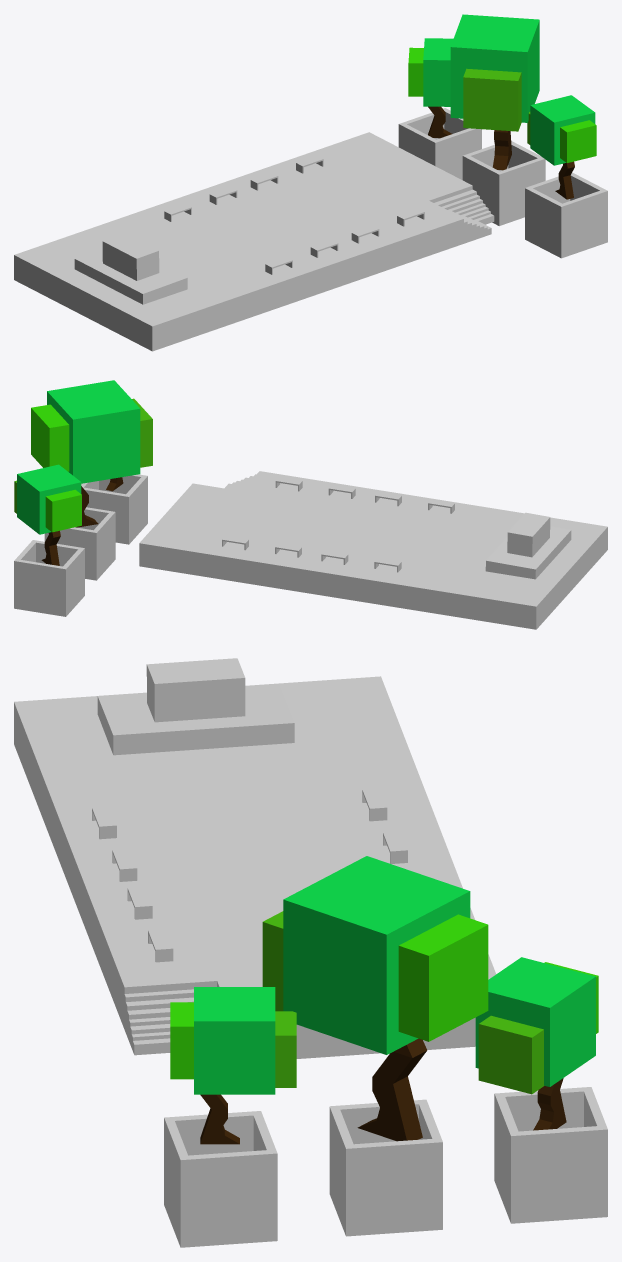
The model's file is praça.glb.
3 renders of one model, top to bottom at view 1: azimuth 30°, elevation 25°; view 2: azimuth 150°, elevation 25°; view 3: azimuth 270°, elevation 25°, orthographic. The views are drawn at different scales.
Visible parts, largest first — view 1: Cube, Cube.009, Cube.002, Cube.043, Cube.001, Cube.003, Cube.008, Cube.010, Cube.051; view 2: Cube, Cube.009, Cube.008, Cube.010, Cube.043, Cube.002, Cube.003, Cube.051; view 3: Cube, Cube.009, Cube.010, Cube.043, Cube.001, Cube.002, Cube.008, Cube.003, Cube.051.
Boxes of the visible parts, bbox=[...] form: Cube: bbox=[14, 132, 494, 351]; Cube.009: bbox=[450, 14, 539, 170]; Cube.002: bbox=[525, 172, 607, 258]; Cube.043: bbox=[74, 233, 187, 304]; Cube.001: bbox=[527, 95, 596, 199]; Cube.003: bbox=[462, 141, 545, 225]; Cube.008: bbox=[398, 108, 481, 179]; Cube.010: bbox=[408, 38, 453, 138]; Cube.051: bbox=[164, 155, 424, 274]; Cube: bbox=[139, 471, 607, 629]; Cube.009: bbox=[31, 380, 152, 527]; Cube.008: bbox=[14, 540, 84, 616]; Cube.010: bbox=[14, 464, 81, 565]; Cube.043: bbox=[485, 512, 571, 579]; Cube.002: bbox=[81, 474, 147, 544]; Cube.003: bbox=[44, 507, 115, 580]; Cube.051: bbox=[222, 477, 454, 572]; Cube: bbox=[14, 676, 495, 1058]; Cube.009: bbox=[262, 856, 488, 1141]; Cube.010: bbox=[475, 957, 598, 1130]; Cube.043: bbox=[97, 658, 294, 755]; Cube.001: bbox=[170, 987, 296, 1144]; Cube.002: bbox=[164, 1111, 277, 1247]; Cube.008: bbox=[494, 1087, 607, 1223]; Cube.003: bbox=[329, 1099, 442, 1236]; Cube.051: bbox=[92, 788, 416, 962].
Bounding box in the file's own units: 44.74 × 14.41 × 25.29.
